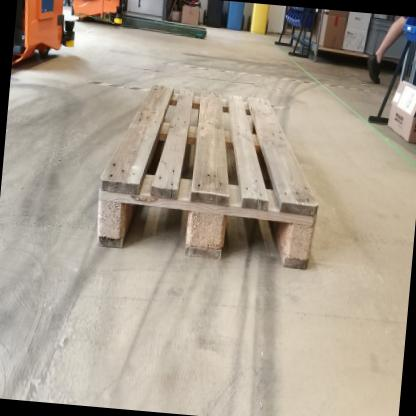BoxFace: (92, 77, 325, 283)
